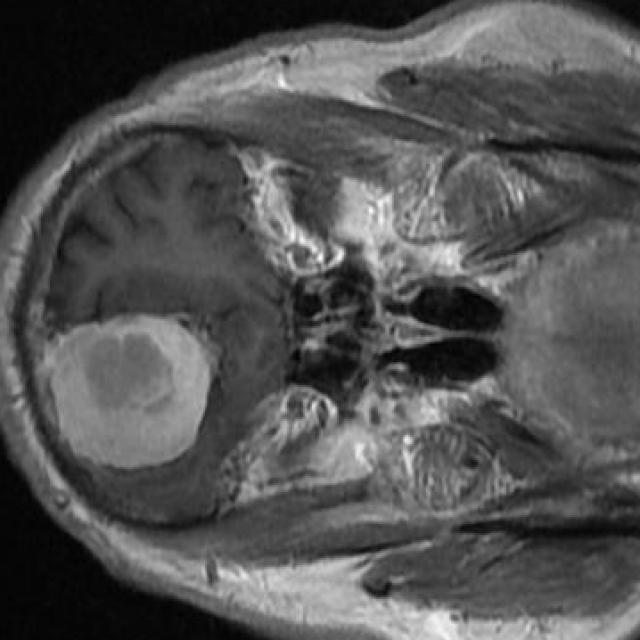meningioma: (48, 316, 212, 471)
